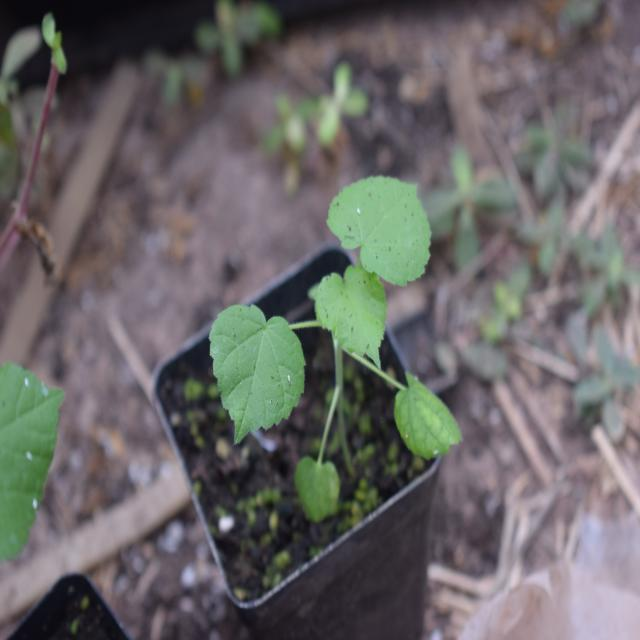abutilon theophrasti: (205, 181, 457, 468)
